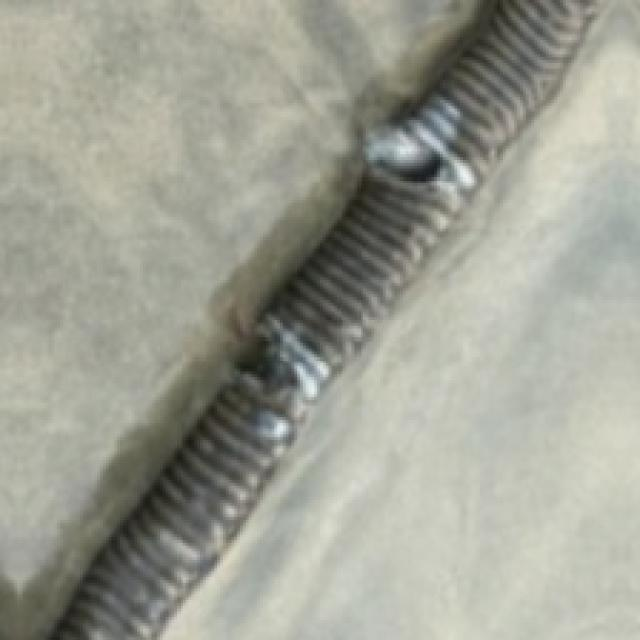king cobra: (0, 0, 471, 637), (420, 409, 549, 617), (523, 6, 637, 194), (434, 360, 497, 400)
